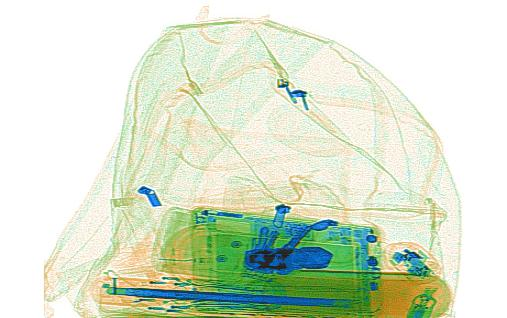USBFlashDisk: (405, 285, 437, 316)
